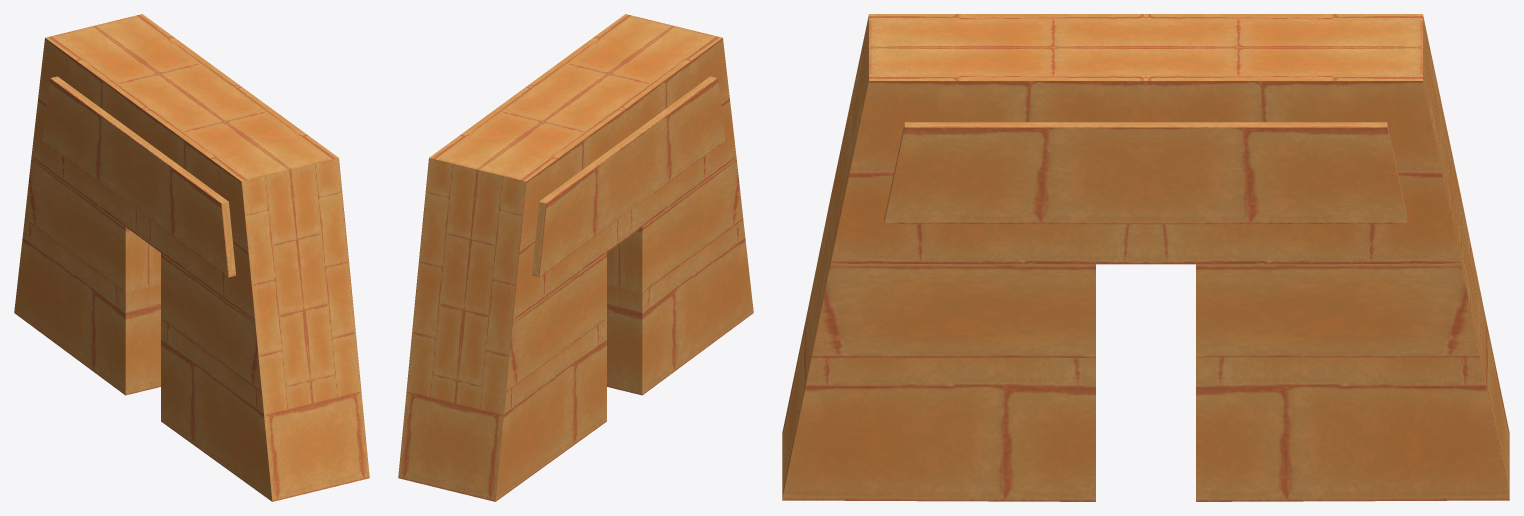
File: TempleArch01_Art.glb
3 renders of one model, left to right at view 1: azimuth 30°, elevation 25°; view 2: azimuth 150°, elevation 25°; view 3: azimuth 270°, elevation 25°, orthographic. The views are drawn at different scales.
Parts seen in each view (by area): view 1: TempleArch01_Art; view 2: TempleArch01_Art; view 3: TempleArch01_Art.
Boxes of the visible parts, left/top/right/bottom form: TempleArch01_Art: left=14, top=14, right=369, bottom=501; TempleArch01_Art: left=398, top=14, right=753, bottom=501; TempleArch01_Art: left=782, top=14, right=1509, bottom=501.
Bounding box in the file's own units: 7.35 × 18.6 × 29.14.
1 material, 1 textured.
